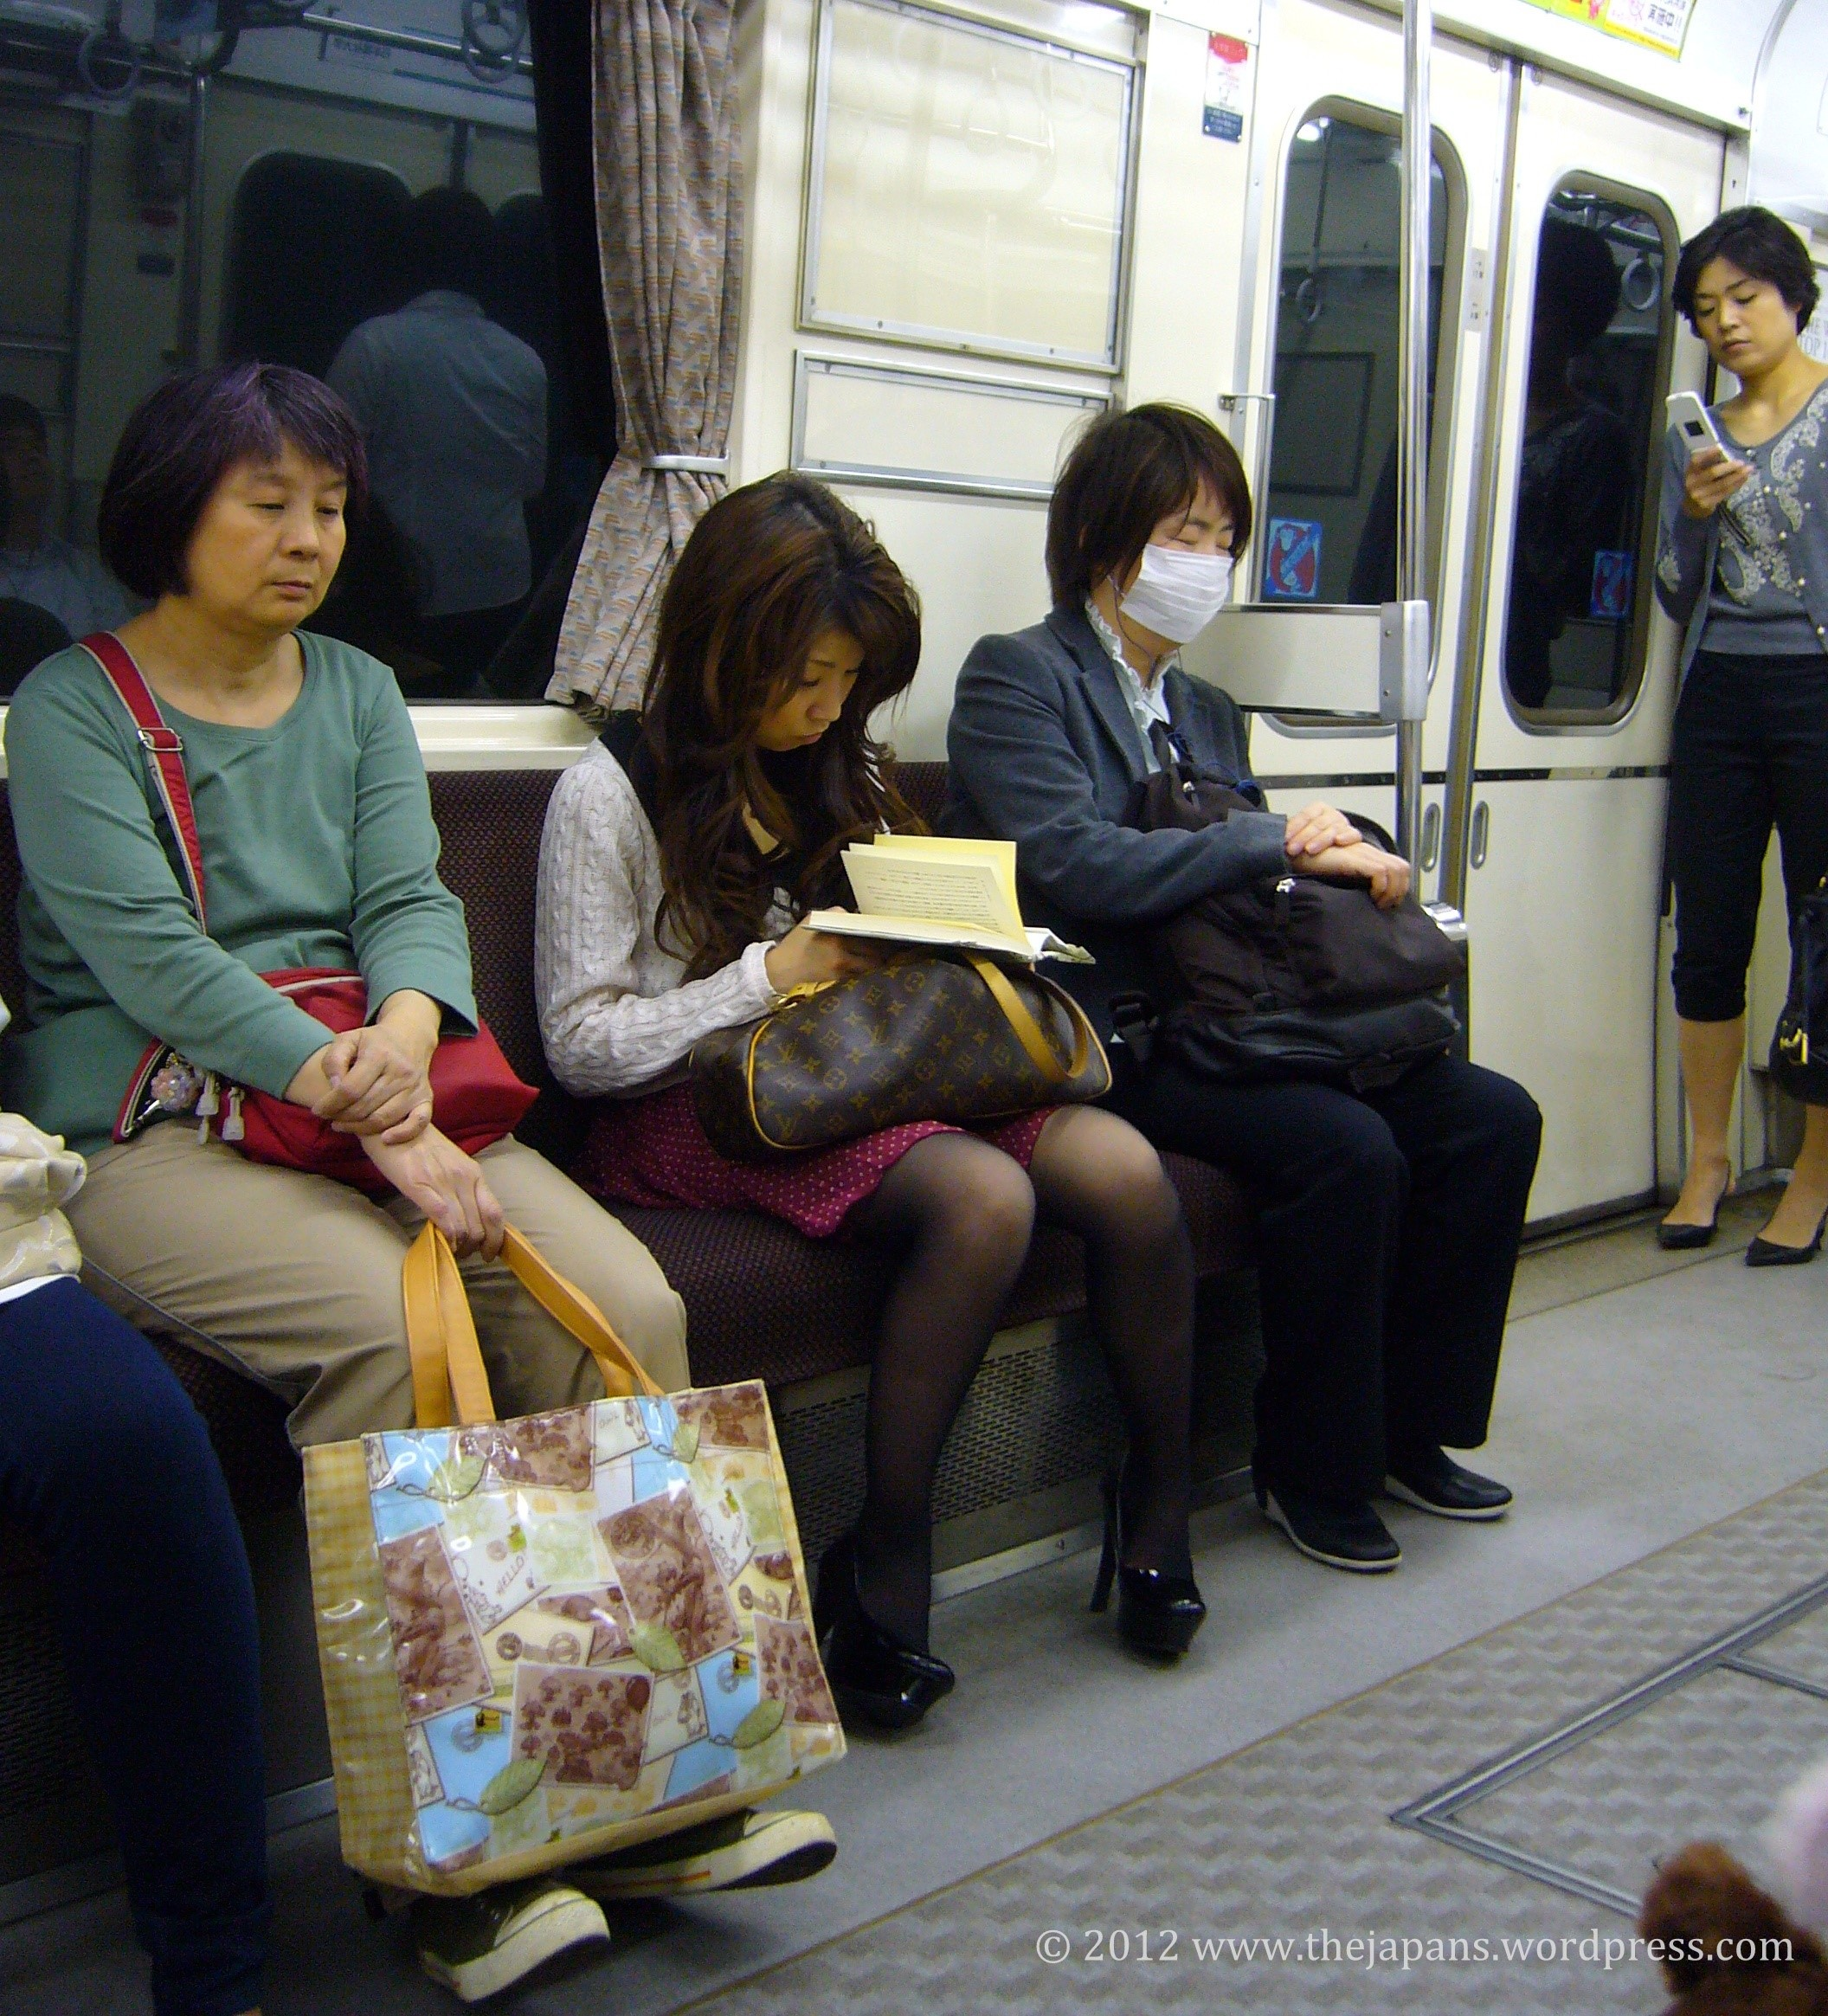face_no_mask: (150, 388, 364, 647), (711, 553, 904, 783), (1665, 219, 1809, 400)
face_with_mask: (1097, 461, 1277, 676)
